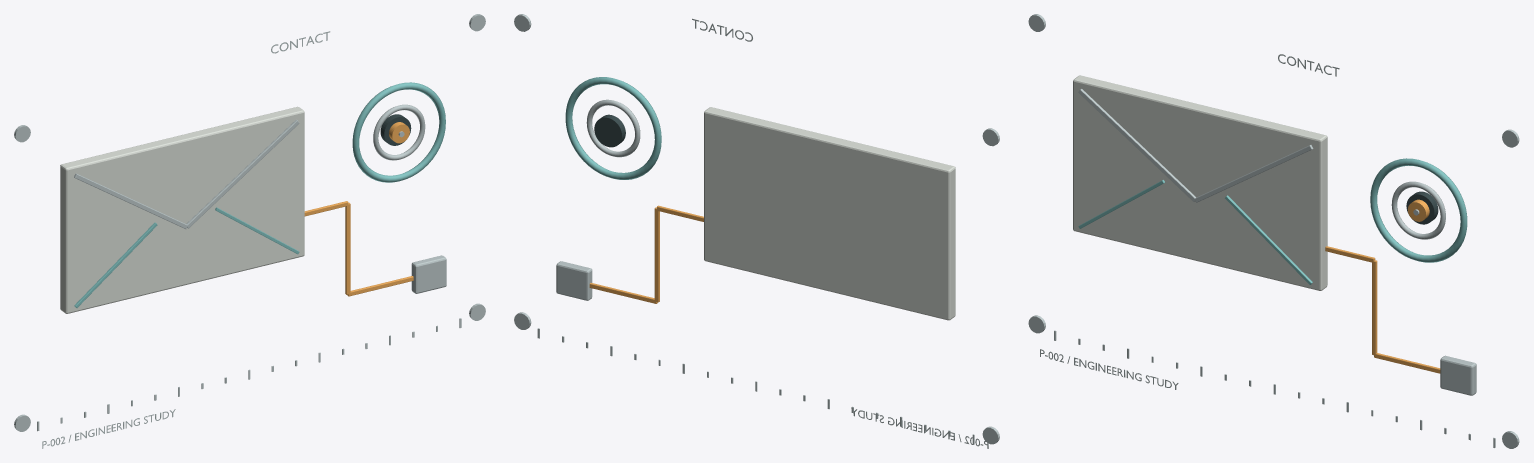
File: contact.glb
3 renders of one model, left to right at view 1: azimuth 30°, elevation 25°; view 2: azimuth 150°, elevation 25°; view 3: azimuth 330°, elevation 25°, orthographic. The views are drawn at different scales.
Visible parts, largest first — view 1: optical-core__Project_Ceramic.001, optical-lenses__Project_Silver.001, optical-lenses__Project_Trace.001, optical-core__Project_Silver, optical-lenses__Project_Amber; view 2: optical-core__Project_Ceramic.001, optical-lenses__Project_Silver.001, optical-lenses__Project_Trace.001, optical-lenses__Project_Amber, optical-core__Project_Silver, optical-core__Project_Graphite.001; view 3: optical-core__Project_Ceramic.001, optical-lenses__Project_Silver.001, optical-lenses__Project_Trace.001, optical-core__Project_Silver, optical-lenses__Project_Amber, optical-core__Project_Graphite.001.
Part boxes in pixels (x1=…): optical-core__Project_Ceramic.001: x1=60, y1=106, x2=304, y2=313; optical-lenses__Project_Silver.001: x1=14, y1=14, x2=485, y2=448; optical-lenses__Project_Trace.001: x1=74, y1=82, x2=445, y2=307; optical-core__Project_Silver: x1=398, y1=131, x2=446, y2=293; optical-lenses__Project_Amber: x1=304, y1=201, x2=413, y2=296; optical-core__Project_Ceramic.001: x1=704, y1=107, x2=955, y2=320; optical-lenses__Project_Silver.001: x1=514, y1=14, x2=999, y2=448; optical-lenses__Project_Trace.001: x1=565, y1=77, x2=661, y2=179; optical-lenses__Project_Amber: x1=589, y1=205, x2=703, y2=303; optical-core__Project_Silver: x1=556, y1=261, x2=592, y2=300; optical-core__Project_Graphite.001: x1=594, y1=114, x2=625, y2=147; optical-core__Project_Ceramic.001: x1=1073, y1=75, x2=1327, y2=290; optical-lenses__Project_Silver.001: x1=1028, y1=14, x2=1519, y2=448; optical-lenses__Project_Trace.001: x1=1078, y1=158, x2=1467, y2=284; optical-core__Project_Silver: x1=1413, y1=209, x2=1476, y2=395; optical-lenses__Project_Amber: x1=1325, y1=246, x2=1440, y2=373; optical-core__Project_Graphite.001: x1=1406, y1=191, x2=1438, y2=224.
Bounding box in the file's own units: 4.01 × 2.83 × 0.1537.
